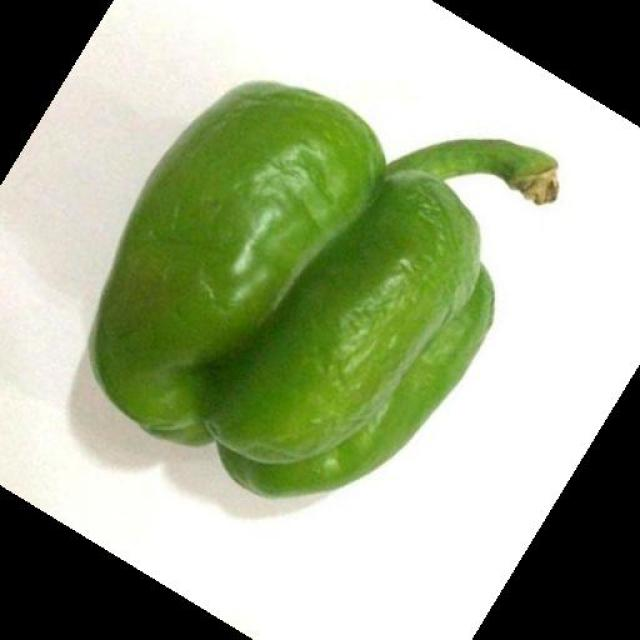Fresh_Capsicum: (146, 29, 506, 495)
